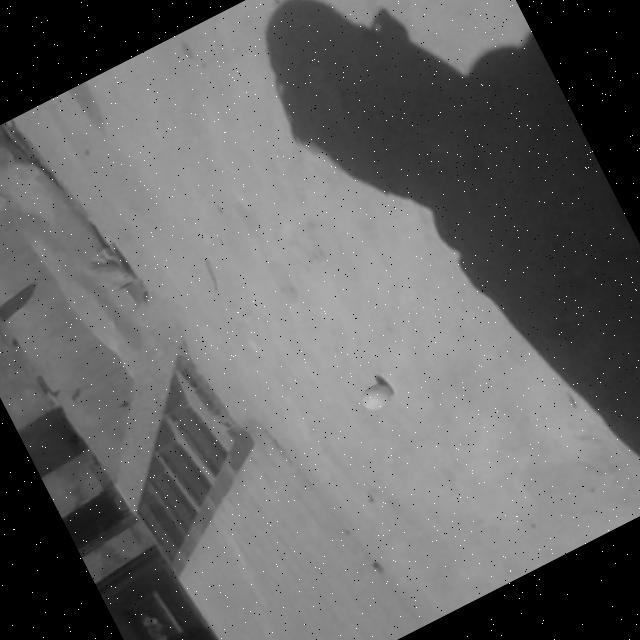ping-pong-ball: (359, 378, 397, 414)
